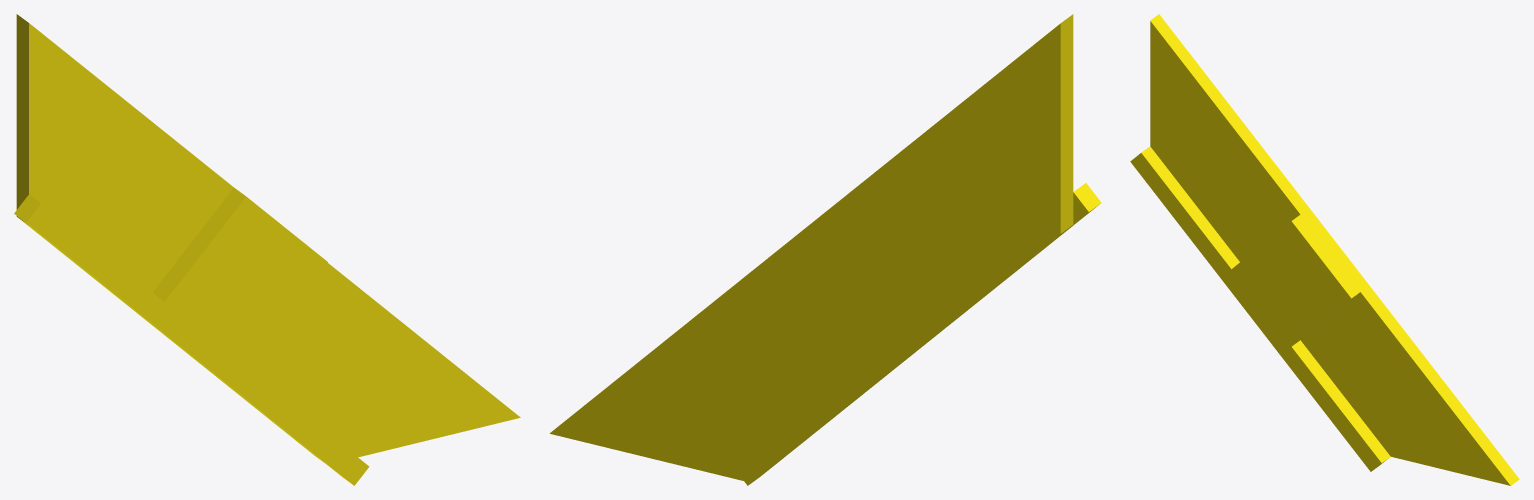
Rendered from statuette_support_yellow.glb.
3 renders of one model, left to right at view 1: azimuth 30°, elevation 25°; view 2: azimuth 150°, elevation 25°; view 3: azimuth 330°, elevation 25°, orthographic. The views are drawn at different scales.
Parts seen in each view (by area): view 1: Corps1_29_, Corps1_30_, Corps1_31_; view 2: Corps1_29_, Corps1_31_; view 3: Corps1_29_, Corps1_31_, Corps1_30_.
Part boxes in pixels (left/top/right/bottom): Corps1_29_: left=16, top=14, right=520, bottom=461; Corps1_30_: left=153, top=187, right=327, bottom=367; Corps1_31_: left=14, top=194, right=369, bottom=485; Corps1_29_: left=550, top=14, right=1073, bottom=482; Corps1_31_: left=744, top=183, right=1101, bottom=485; Corps1_29_: left=1150, top=14, right=1519, bottom=485; Corps1_31_: left=1130, top=146, right=1390, bottom=471; Corps1_30_: left=1231, top=214, right=1359, bottom=346.
Size of the model in its own units: 0.5256 by 0.5256 by 0.044.
